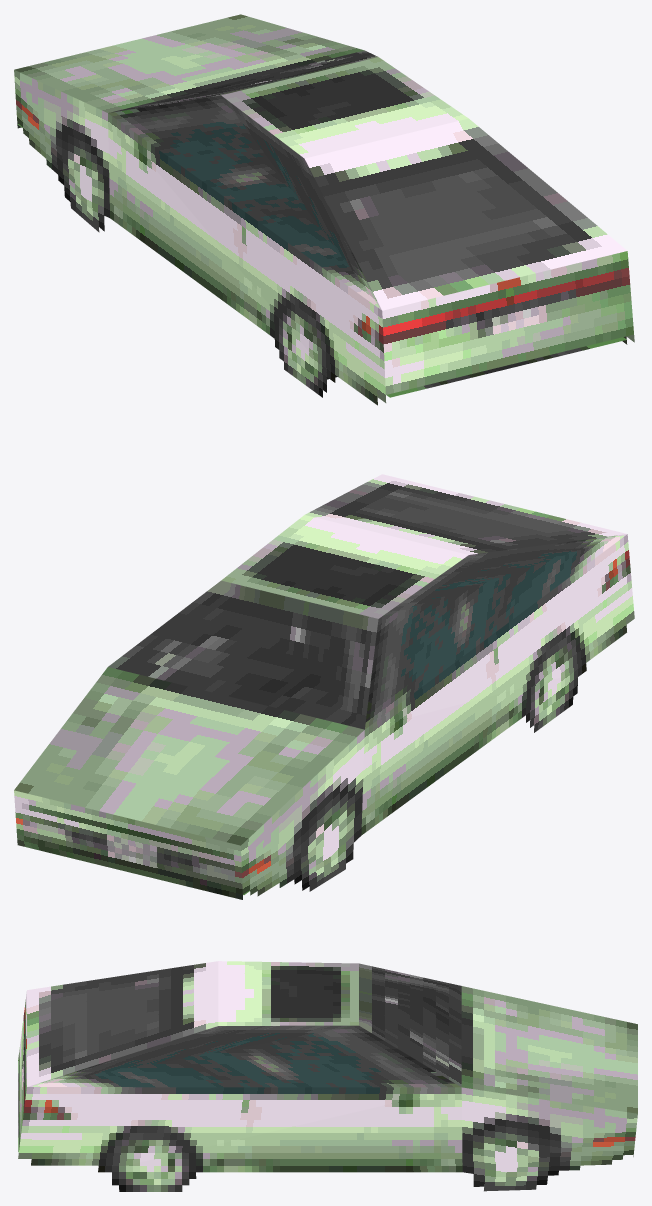
Rendered from car-probe-plt3.glb.
The picture shows the model from 3 angles, top to bottom: view 1: azimuth 30°, elevation 25°; view 2: azimuth 150°, elevation 25°; view 3: azimuth 270°, elevation 25°; orthographic projection. The views are drawn at different scales.
Visible parts, largest first — view 1: car-probe-plt3; view 2: car-probe-plt3; view 3: car-probe-plt3.
Part boxes in pixels (box(x1,y1,x2,y2)): car-probe-plt3: box(14, 14, 634, 405); car-probe-plt3: box(14, 474, 634, 899); car-probe-plt3: box(18, 961, 637, 1191).
Size of the model in its own units: 1.73 by 1.19 by 4.51.
Materials: 13 (13 with a texture image).
